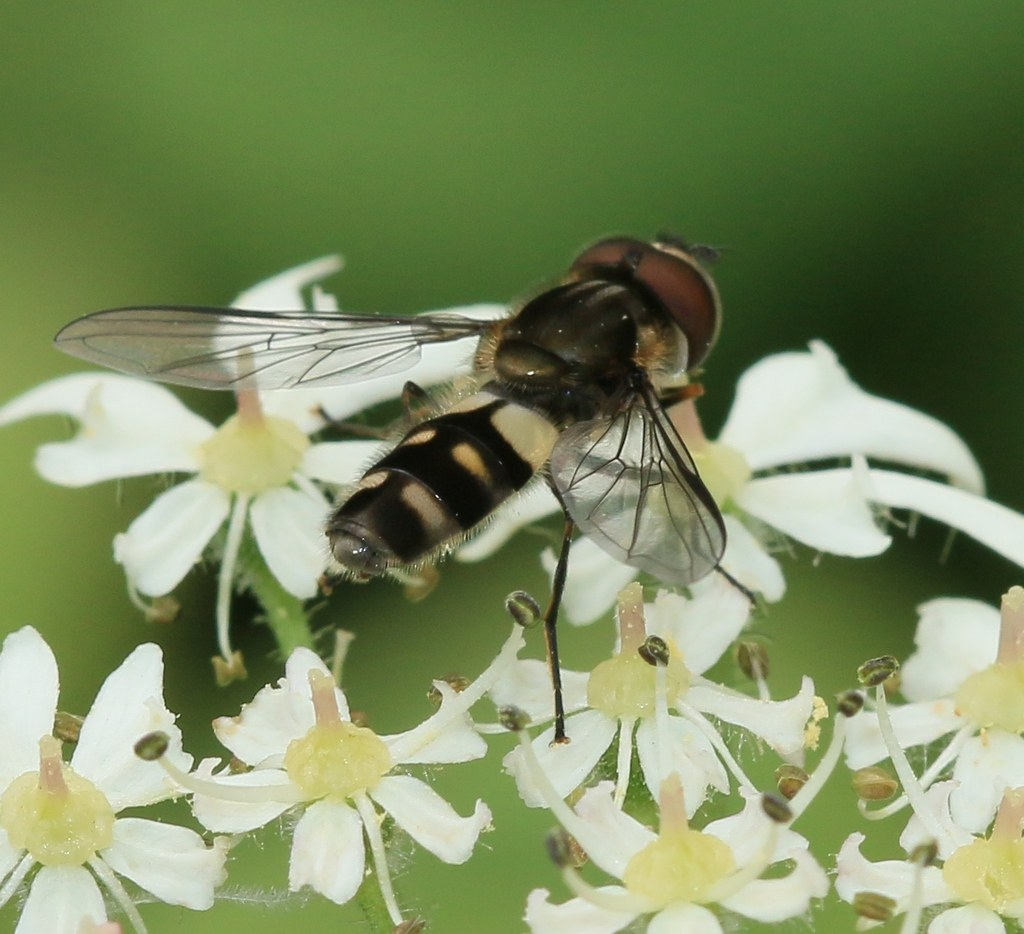bee: (49, 231, 726, 746)
